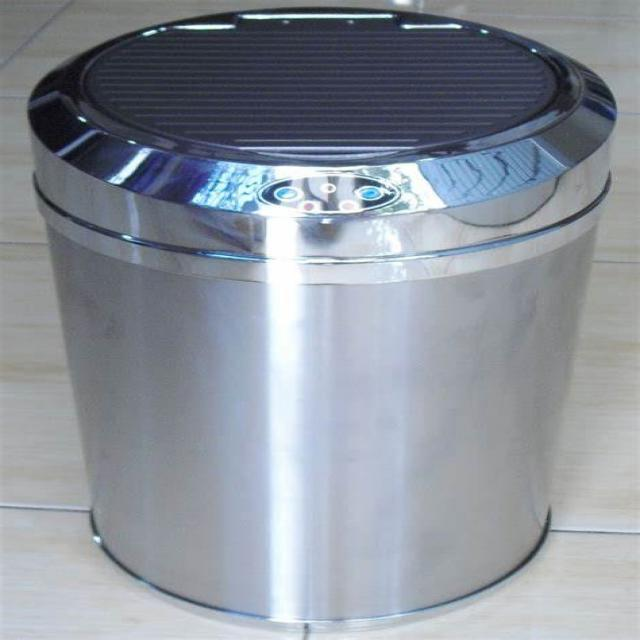garbage container: (11, 6, 631, 632)
